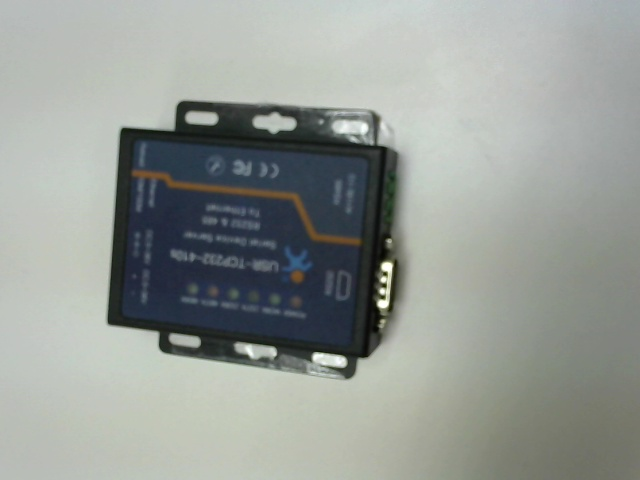modbus bridge: (93, 94, 443, 384)
